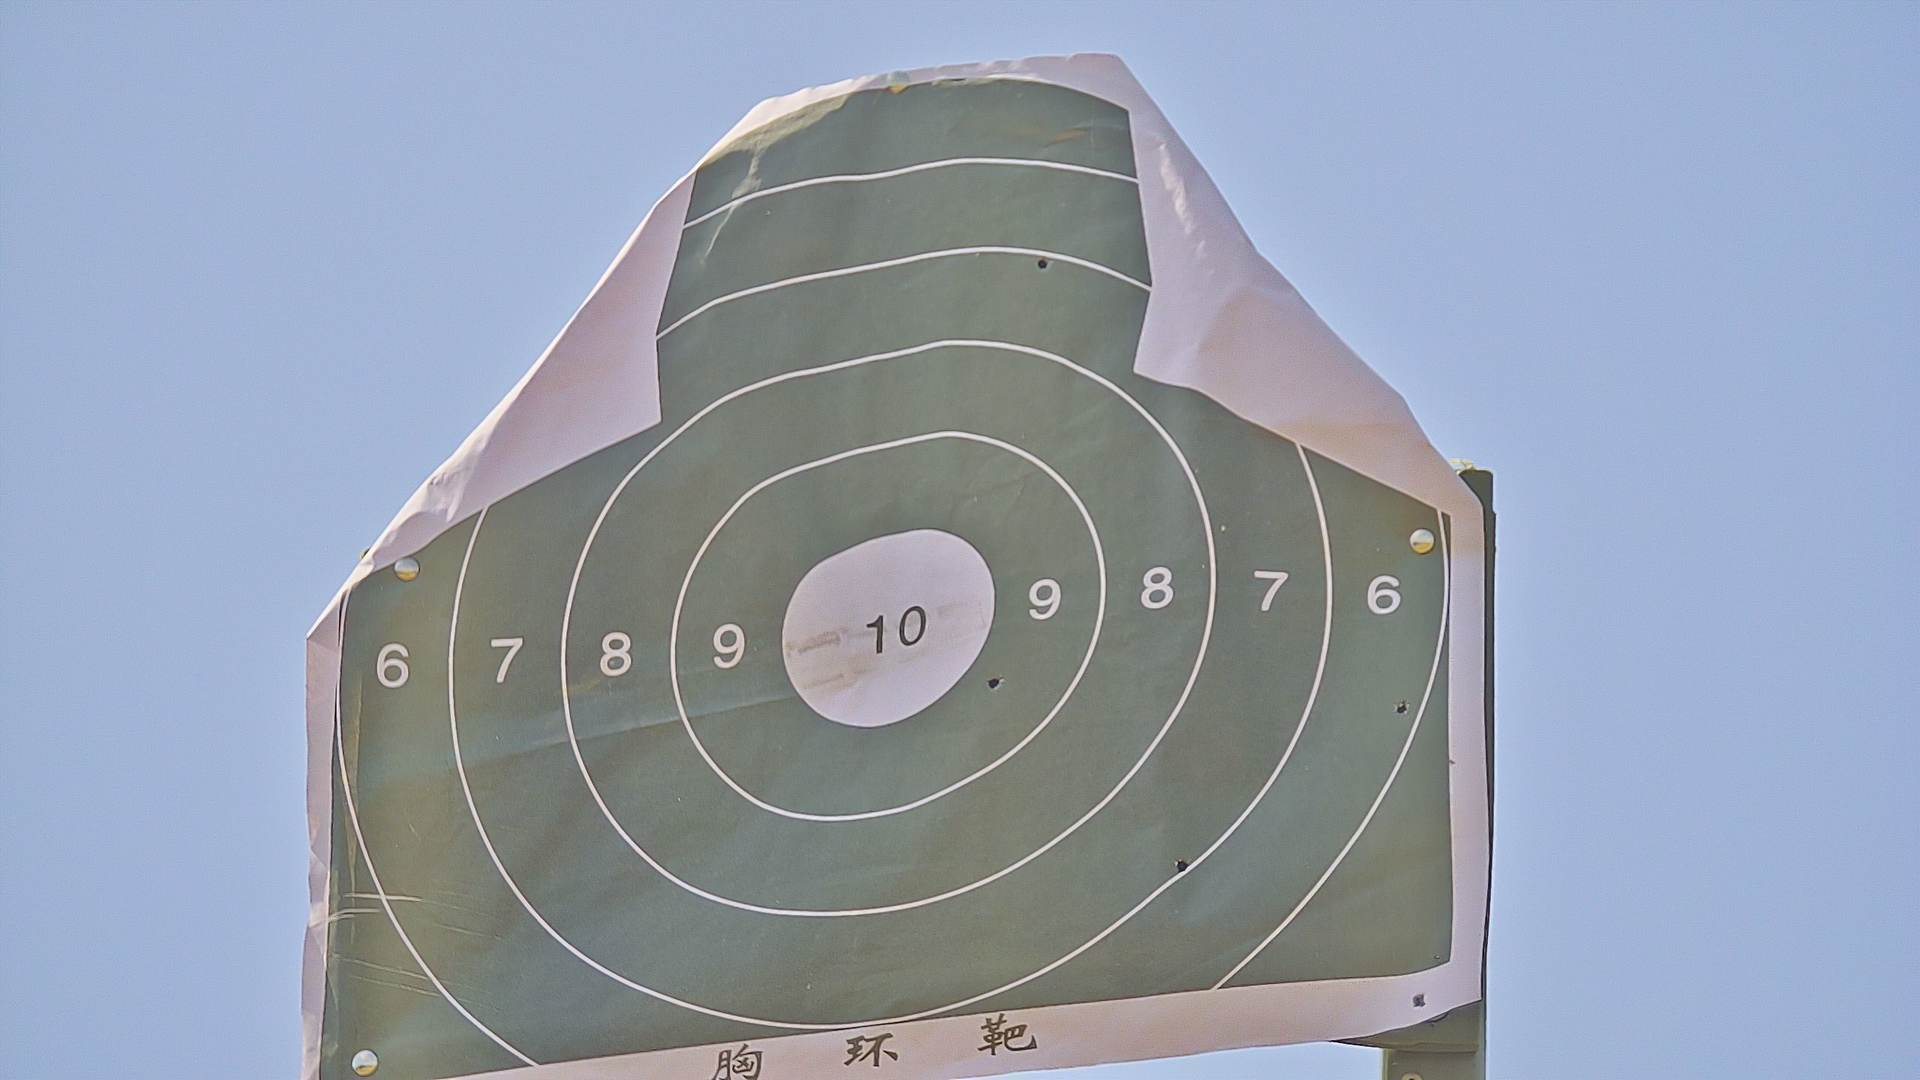hole: (984, 674, 1007, 688), (1171, 857, 1189, 876), (1393, 699, 1410, 717), (1036, 253, 1050, 272)
kernel: (890, 626, 898, 632)
target: (319, 80, 1452, 1080)
ten: (779, 527, 996, 727)
